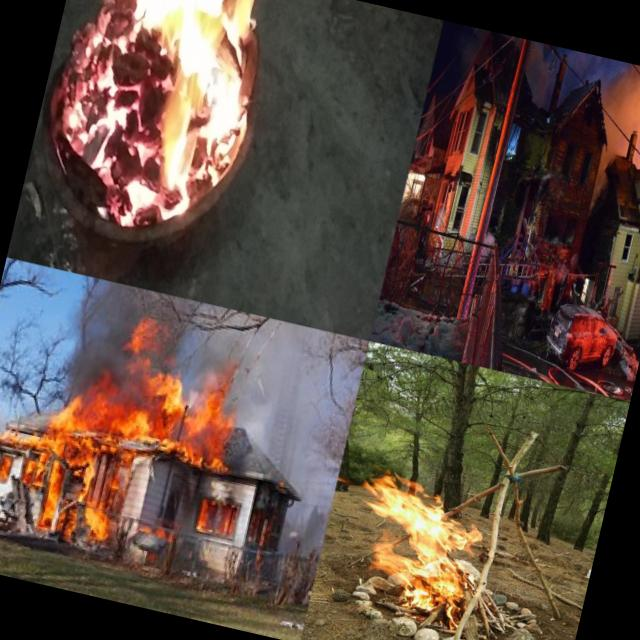fire: (0, 336, 247, 572), (68, 0, 289, 254), (341, 466, 492, 624), (26, 0, 126, 183)
smoke: (50, 273, 142, 391), (599, 58, 640, 119)
